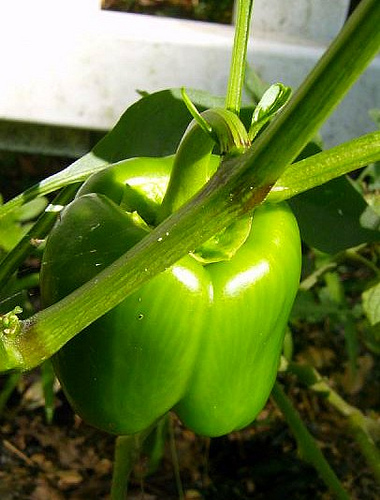capsicum: (37, 107, 303, 438)
